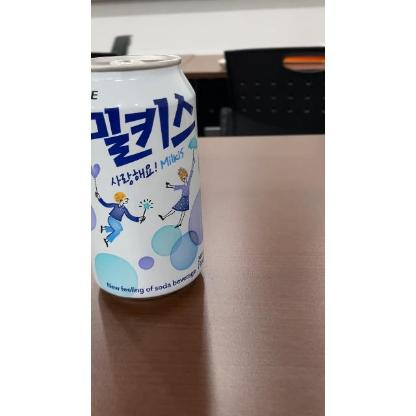Can: (92, 52, 209, 298)
